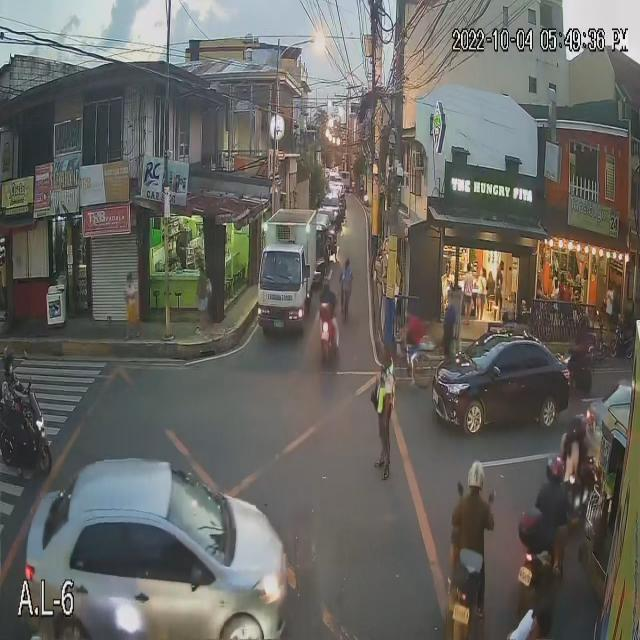helmet: (462, 459, 489, 497), (562, 413, 587, 443), (544, 454, 567, 483), (0, 341, 16, 377), (320, 274, 331, 289)
motorcycle: (0, 389, 55, 475), (438, 551, 488, 640), (517, 530, 569, 607), (310, 317, 344, 360)
rider: (449, 456, 501, 567), (528, 453, 570, 543), (0, 341, 24, 428), (562, 417, 587, 483), (319, 269, 336, 330)
